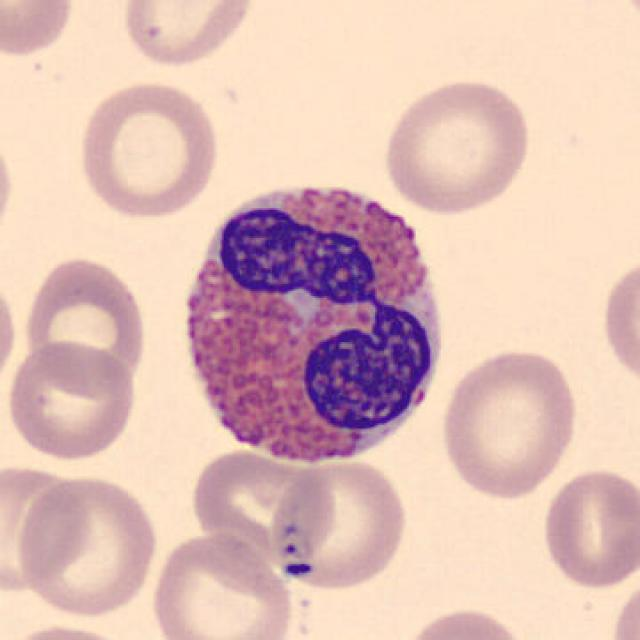Eosinophil: (167, 159, 459, 483)
RBC: (436, 344, 582, 501), (12, 469, 162, 621), (379, 72, 535, 217), (73, 76, 222, 222), (268, 457, 411, 592), (20, 251, 151, 394), (187, 444, 336, 566), (2, 335, 140, 464), (147, 529, 297, 640), (539, 464, 638, 592), (2, 469, 96, 598), (117, 0, 258, 71), (598, 249, 638, 393), (396, 604, 531, 640), (0, 0, 76, 60), (0, 620, 138, 640), (0, 266, 21, 396), (0, 127, 18, 250), (608, 569, 638, 640), (608, 0, 640, 37)
